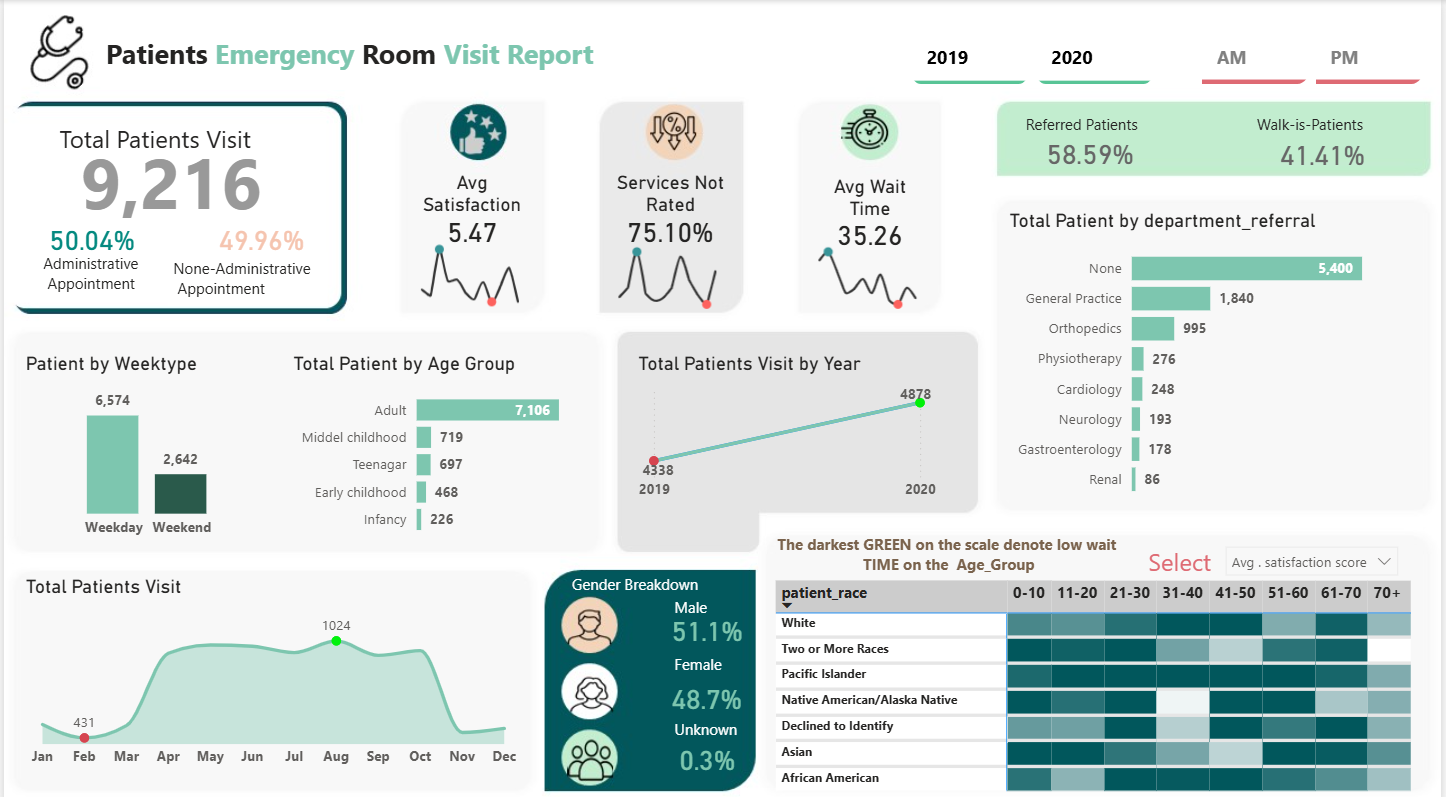

The page's visual inventory and layout, read from the dashboard file:
{"tool":"powerbi","page":{"name":"Page 1","canvas":[1280,720],"ordinal":0},"visuals":[{"type":"card","fields":{"Values":["Calculations.Total Patient"]},"box":[55.5,112.2,187,92.9],"z":0},{"type":"card","fields":{"Values":["Calculations.% Administrative Schedule"]},"box":[30.2,195.4,96.5,35],"z":1000},{"type":"card","fields":{"Values":["Calculations.%None - Administrative Schedule"]},"box":[182.2,193,94.1,41],"z":2000},{"type":"card","title":"     Avg Wait \n        Time","fields":{"Values":["Calculations.Average wait time"]},"box":[716.6,155.6,108.6,68.8],"z":3000},{"type":"pivotTable","fields":{"Values":["Calculations.Average satisfaction score"],"Rows":["Patient Dataset.patient_race"],"Columns":["Patient Dataset.Age Buckets"]},"box":[682.8,511.5,585.1,200.3],"z":4000},{"type":"slicer","fields":{"Values":["Parameter.Parameter"]},"box":[1077.4,476.5,173.7,43.4],"z":5000},{"type":"barChart","fields":{"Y":["Calculations.Total Patient"],"Category":["Patient Dataset.Age Group"]},"box":[252.1,313.7,281.1,173.7],"z":6000},{"type":"areaChart","title":"Total Patients Visit","fields":{"Category":["Date.Month"],"Y":["Calculations.Total Patient","Calculations.Values Point (Month)"]},"box":[14.5,511.5,451.2,179.8],"z":7000},{"type":"advancedSlicerVisual","fields":{"Values":["Patient Dataset.Moment"]},"box":[1061.7,20.5,206.3,60.3],"z":8000},{"type":"lineChart","title":"Total Patients Visit by Year","fields":{"Y":["Calculations.Total Patient","Calculations.Values Point (Year)"],"Category":["Date.Year"]},"box":[559.8,313.7,275.1,139.9],"z":9000},{"type":"clusteredBarChart","fields":{"Y":["Calculations.Total Patient"],"Category":["Patient Dataset.department_referral"]},"box":[890.4,185.8,360.7,267.8],"z":10000},{"type":"card","fields":{"Values":["Calculations.%Referred Patients"]},"box":[1115.2,118.7,117.8,37.8],"z":11000},{"type":"card","fields":{"Values":["Calculations.%Un Referred Patients"]},"box":[904.8,118.2,124.3,38.6],"z":12000},{"type":"card","fields":{"Values":["Calculations.HitMap Caption"]},"box":[682.8,465.7,318.5,57.9],"z":13000},{"type":"textbox","box":[44.6,103.8,190.6,55.5],"z":14000},{"type":"textbox","box":[146,224.4,142.4,47.1],"z":15000},{"type":"card","title":"Services Not Rated","fields":{"Values":["Calculations.% No Rating"]},"box":[533.2,152,120.6,68.8],"z":16000},{"type":"columnChart","title":" Patient by Weektype","fields":{"Y":["Calculations.Total Patient"],"Category":["Date.Weektype"]},"box":[14.5,313.7,228,173.7],"z":17000},{"type":"textbox","box":[1111.1,96.5,139.9,30.2],"z":18000},{"type":"textbox","box":[904.8,96.5,138.7,30.2],"z":19000},{"type":"card","fields":{"Values":["Calculations.%Fmale Visit"]},"box":[585.1,594.2,80.8,55.5],"z":20000},{"type":"card","fields":{"Values":["Calculations.%Male Visit"]},"box":[585.1,534.5,80.8,55.5],"z":21000},{"type":"card","fields":{"Values":["Calculations.%Unknown"]},"box":[586.3,653.9,79.6,45.8],"z":22000},{"type":"textbox","box":[30.2,220.8,109.8,48.3],"z":23000},{"type":"PBI_CV_25997FEB_F466_44FA_B562_AC4063283C4C","fields":{"measure":["Calculations.Average satisfaction score"],"axis":["Date.Month"]},"box":[353.5,205.1,125.5,74.8],"z":24000},{"type":"PBI_CV_25997FEB_F466_44FA_B562_AC4063283C4C","fields":{"measure":["Calculations.% No Rating"],"axis":["Date.Month"]},"box":[529.6,207.5,125.5,74.8],"z":25000},{"type":"PBI_CV_25997FEB_F466_44FA_B562_AC4063283C4C","fields":{"measure":["Calculations.Average wait time"],"axis":["Date.Month"]},"box":[708.2,207.5,125.5,74.8],"z":26000},{"type":"card","title":"      Avg Satisfaction","fields":{"Values":["Calculations.Average satisfaction score"]},"box":[353.5,152,125.5,68.8],"z":27000},{"type":"textbox","box":[500.7,506.7,165.3,33.8],"z":28000},{"type":"textbox","box":[592.4,526,50.7,29],"z":29000},{"type":"textbox","box":[592.4,577.9,61.5,35],"z":30000},{"type":"textbox","box":[592.4,635.8,80.8,35],"z":31000},{"type":"textbox","box":[1014.6,481.4,77.2,38.6],"z":32000},{"type":"textbox","box":[85.7,20.5,459.7,60.3],"z":33000},{"type":"advancedSlicerVisual","fields":{"Values":["Date.Year"]},"box":[803.5,20.5,225.6,60.3],"z":33001}]}

Visuals, with their boxes in screenshot pixels (x1, y1, x2, y2), scaled from the page's 1280x720 canvas onto the 1446x797 screenshot:
card - Calculations.Total Patient: [63,124,274,227]
card - Calculations.% Administrative Schedule: [34,216,143,255]
card - Calculations.%None - Administrative Schedule: [206,214,312,259]
"     Avg Wait 
        Time" card: [810,172,932,248]
pivotTable - Calculations.Average satisfaction score x Patient Dataset.patient_race: [771,566,1432,788]
slicer - Parameter.Parameter: [1217,527,1413,576]
barChart - Calculations.Total Patient x Patient Dataset.Age Group: [285,347,602,540]
"Total Patients Visit" areaChart: [16,566,526,765]
advancedSlicerVisual - Patient Dataset.Moment: [1199,23,1432,89]
"Total Patients Visit by Year" lineChart: [632,347,943,502]
clusteredBarChart - Calculations.Total Patient x Patient Dataset.department_referral: [1006,206,1413,502]
card - Calculations.%Referred Patients: [1260,131,1393,173]
card - Calculations.%Un Referred Patients: [1022,131,1163,174]
card - Calculations.HitMap Caption: [771,516,1131,580]
textbox: [50,115,266,176]
textbox: [165,248,326,301]
"Services Not Rated" card: [602,168,739,244]
" Patient by Weektype" columnChart: [16,347,274,540]
textbox: [1255,107,1413,140]
textbox: [1022,107,1179,140]
card - Calculations.%Fmale Visit: [661,658,752,719]
card - Calculations.%Male Visit: [661,592,752,653]
card - Calculations.%Unknown: [662,724,752,775]
textbox: [34,244,158,298]
PBI_CV_25997FEB_F466_44FA_B562_AC4063283C4C - Calculations.Average satisfaction score x Date.Month: [399,227,541,310]
PBI_CV_25997FEB_F466_44FA_B562_AC4063283C4C - Calculations.% No Rating x Date.Month: [598,230,740,312]
PBI_CV_25997FEB_F466_44FA_B562_AC4063283C4C - Calculations.Average wait time x Date.Month: [800,230,942,312]
"      Avg Satisfaction" card: [399,168,541,244]
textbox: [566,561,752,598]
textbox: [669,582,727,614]
textbox: [669,640,739,678]
textbox: [669,704,761,743]
textbox: [1146,533,1233,576]
textbox: [97,23,616,89]
advancedSlicerVisual - Date.Year: [908,23,1163,89]
